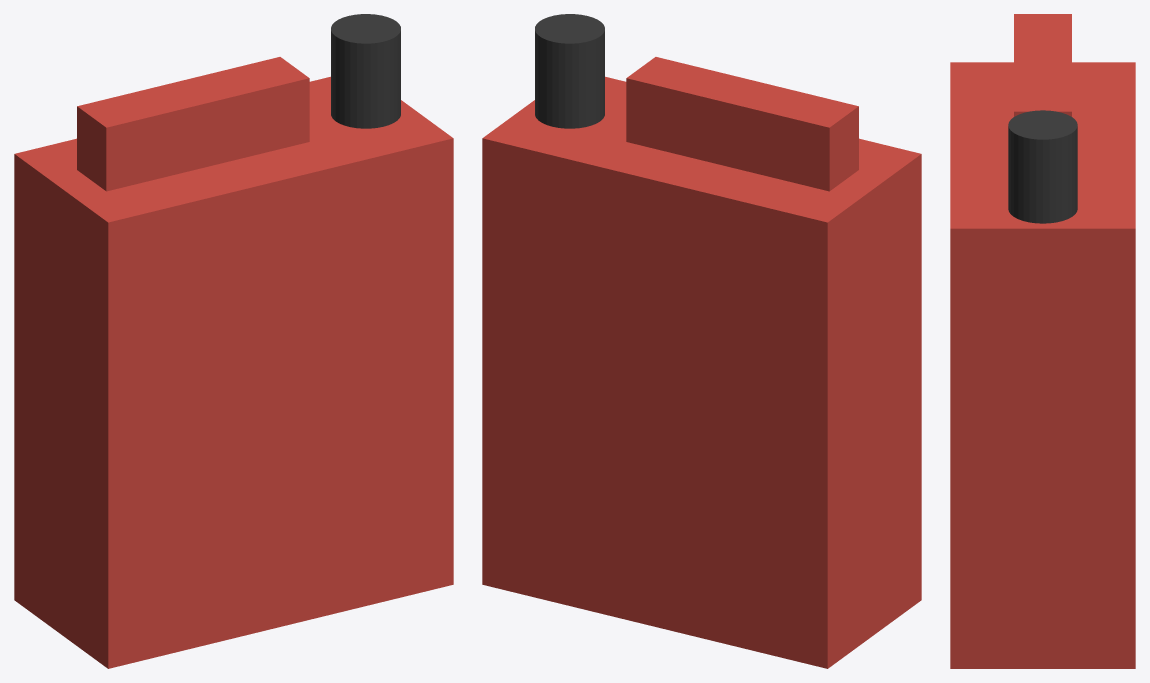
The model's file is jerrycan.glb.
The picture shows the model from 3 angles, left to right: view 1: azimuth 30°, elevation 25°; view 2: azimuth 150°, elevation 25°; view 3: azimuth 270°, elevation 25°; orthographic projection.
Visible parts, largest first — view 1: Jerrycan; view 2: Jerrycan; view 3: Jerrycan.
Part boxes in pixels (x1=…): Jerrycan: x1=14, y1=14, x2=453, y2=668; Jerrycan: x1=482, y1=14, x2=921, y2=668; Jerrycan: x1=950, y1=14, x2=1135, y2=668.
Bounding box in the file's own units: 0.34 × 0.5 × 0.16.
